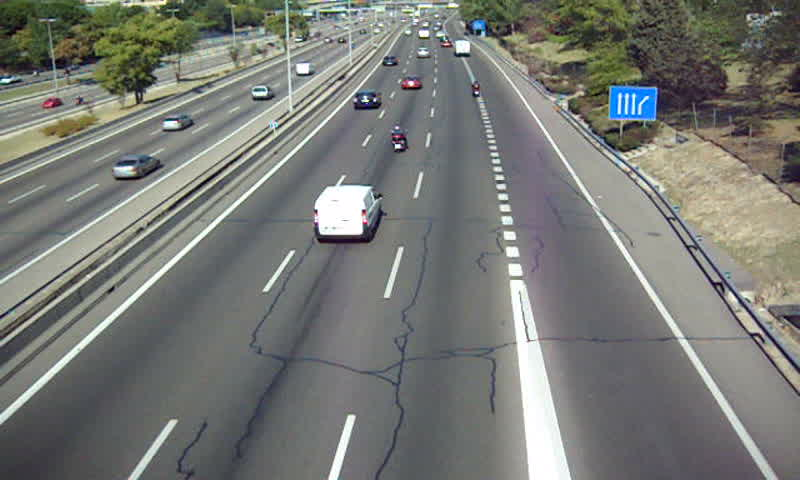car: (350, 88, 382, 111), (399, 76, 420, 91), (381, 55, 398, 68), (415, 46, 430, 59)
motorcycle: (390, 125, 406, 154), (471, 80, 481, 100)
van: (312, 185, 383, 243), (455, 39, 472, 58)
